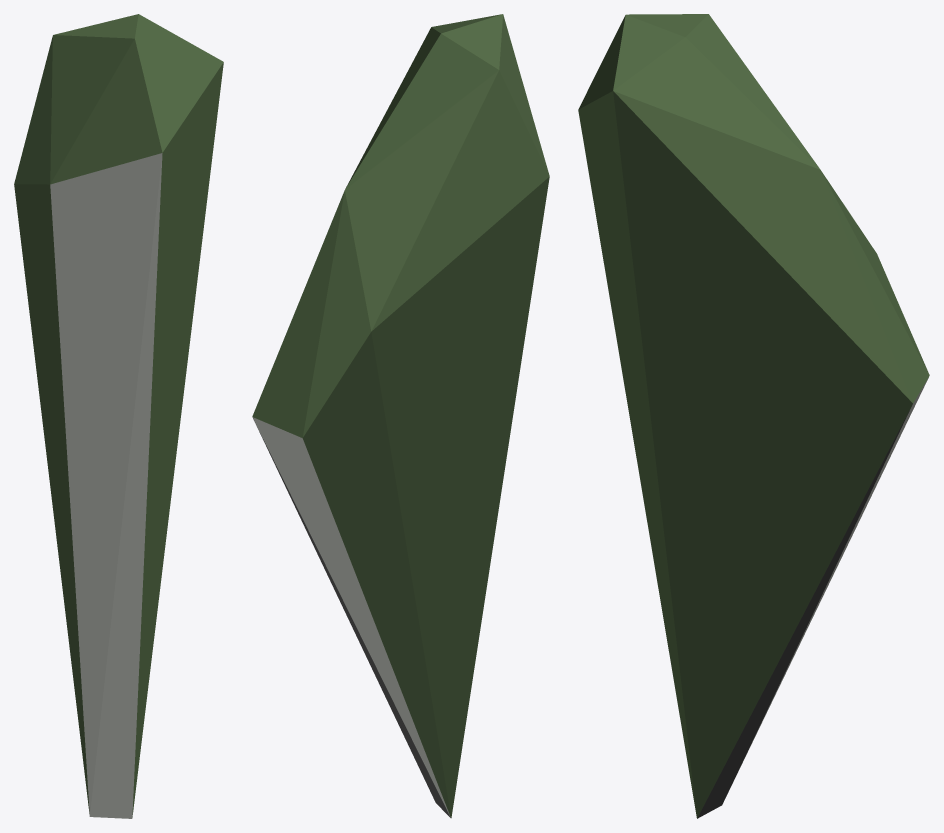
Rendered from BirchTree_5.lod4.glb.
3 renders of one model, left to right at view 1: azimuth 30°, elevation 25°; view 2: azimuth 150°, elevation 25°; view 3: azimuth 270°, elevation 25°, orthographic. The views are drawn at different scales.
Parts seen in each view (by area): view 1: BirchTree_5; view 2: BirchTree_5; view 3: BirchTree_5.
Boxes of the visible parts, bbox=[...] form: BirchTree_5: bbox=[14, 14, 223, 818]; BirchTree_5: bbox=[252, 14, 549, 818]; BirchTree_5: bbox=[578, 14, 929, 818].
Bounding box in the file's own units: 1.19 × 5.03 × 2.03.
